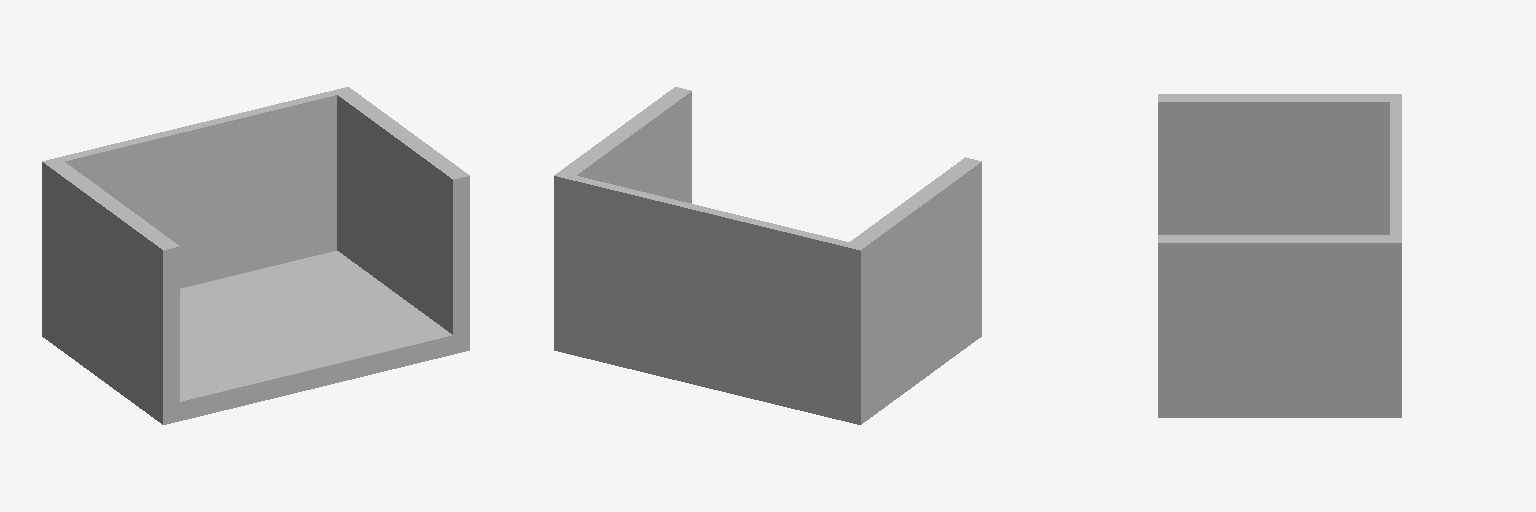
Rendered from Shop.obj.
The picture shows the model from 3 angles: view 1: azimuth 30°, elevation 25°; view 2: azimuth 150°, elevation 25°; view 3: azimuth 270°, elevation 25°; orthographic projection.
Visible parts, largest first — view 1: walls; view 2: walls; view 3: walls.
Boxes of the visible parts, <box> form: walls: <box>42,87,469,424</box>; walls: <box>554,87,981,424</box>; walls: <box>1158,94,1401,417</box>.
Size of the model in its own units: 26.35 by 14.35 by 18.11.